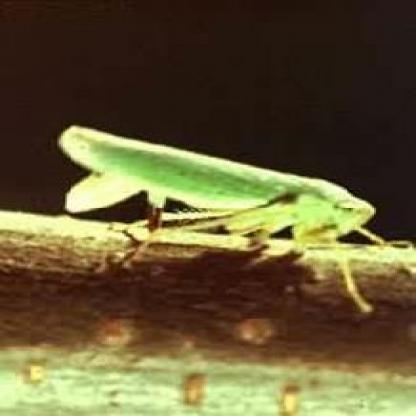Green-Leafhopper: (49, 127, 398, 320)
